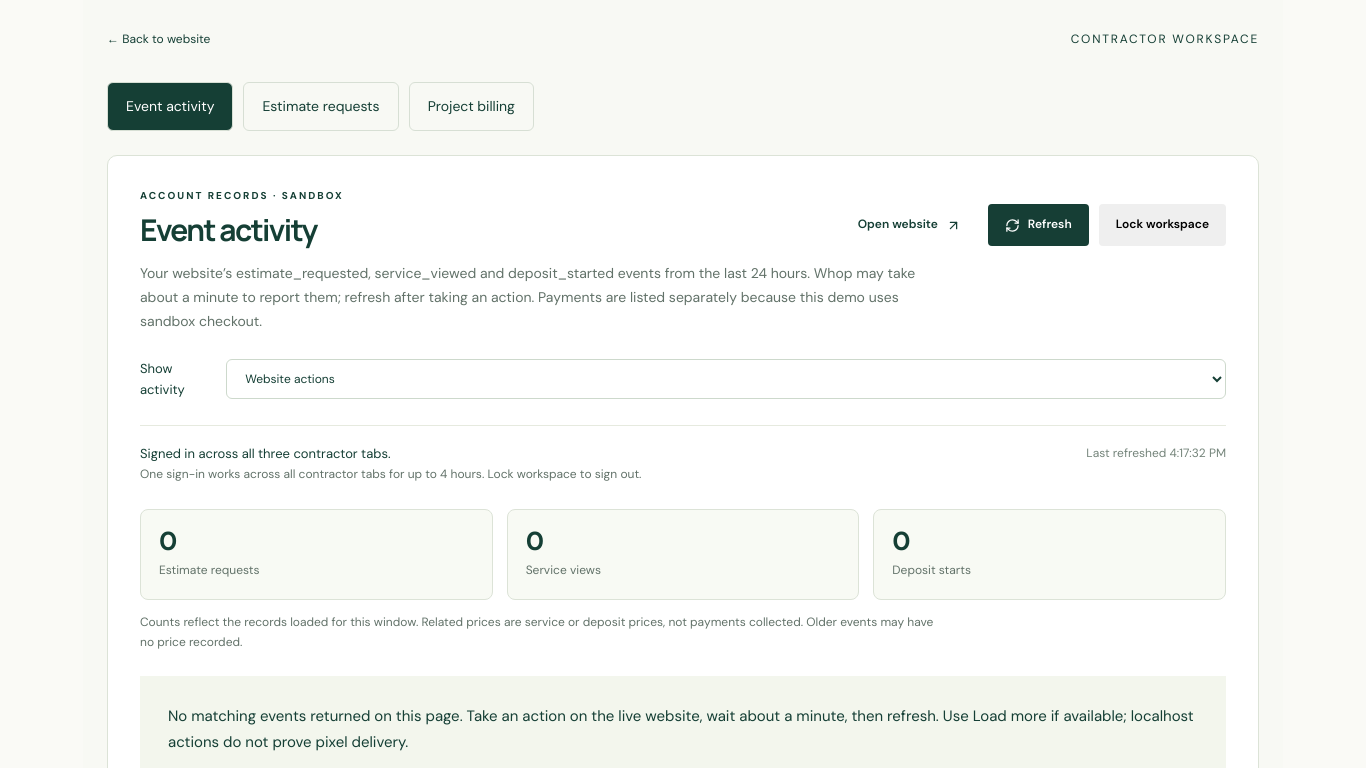
Test: activity selector requests website actions or payment records with separate explanations
The image size is (1366, 768).
Select "Payment records" in the dropdown named "Activity type": (726,379) left=226, top=359, right=1226, bottom=399
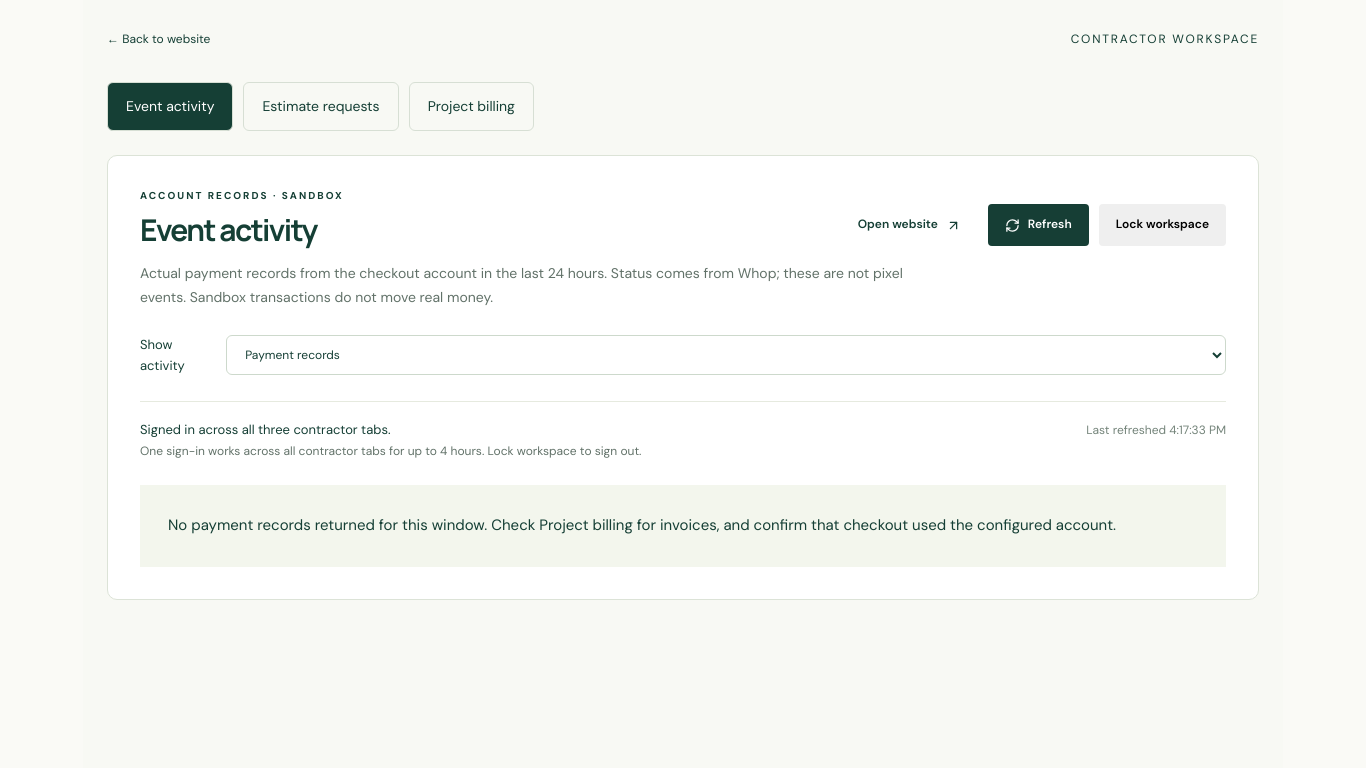
Check: the text "these are not pixel events" is shown, box left=140, top=264, right=903, bottom=306
Check: the text "No payment records returned" is shown, box left=168, top=515, right=1116, bottom=535
